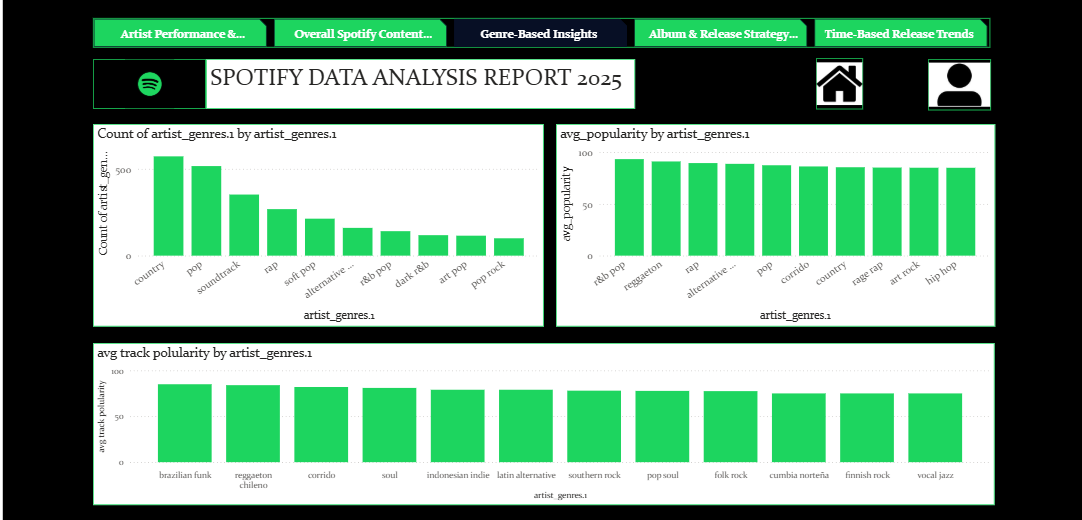

Layout of this report page (visuals, bound fields, positions):
{"tool":"powerbi","page":{"name":"Genre-Based Insights","canvas":[1280,720],"ordinal":2},"visuals":[{"type":"clusteredColumnChart","fields":{"Category":["spotify_data clean.artist_genres.1"],"Y":["CountNonNull(spotify_data clean.artist_genres.1)"]},"box":[19.2,171.5,623,279.9],"z":0},{"type":"clusteredColumnChart","fields":{"Category":["spotify_data clean.artist_genres.1"],"Y":["spotify_data clean.avg track polularity"]},"box":[19.2,473.4,1246,223.7],"z":1000},{"type":"clusteredColumnChart","fields":{"Category":["spotify_data clean.artist_genres.1"],"Y":["spotify_data clean.avg_popularity"]},"box":[658.7,171.5,606.5,279.9],"z":2000},{"type":"image","box":[19.2,81,156.4,68.6],"z":3000},{"type":"textbox","box":[175.6,81,592.8,68.6],"z":4000},{"type":"pageNavigator","box":[19.2,24.7,1240.5,41.2],"z":5000},{"type":"image","box":[1018.4,79.8,65,71.2],"z":6000},{"type":"image","box":[1173,81,87.1,71.2],"z":7000}]}

Visuals, with their boxes on the page's 1280x720 design canvas (x1, y1, x2, y2). These are canvas units, not pixel positions in the 1082x520 screenshot, which may show the page scaled, cropped or inside an application window:
clusteredColumnChart - spotify_data clean.artist_genres.1 x CountNonNull(spotify_data clean.artist_genres.1): rect(19, 172, 642, 451)
clusteredColumnChart - spotify_data clean.artist_genres.1 x spotify_data clean.avg track polularity: rect(19, 473, 1265, 697)
clusteredColumnChart - spotify_data clean.artist_genres.1 x spotify_data clean.avg_popularity: rect(659, 172, 1265, 451)
image: rect(19, 81, 176, 150)
textbox: rect(176, 81, 768, 150)
pageNavigator: rect(19, 25, 1260, 66)
image: rect(1018, 80, 1083, 151)
image: rect(1173, 81, 1260, 152)
